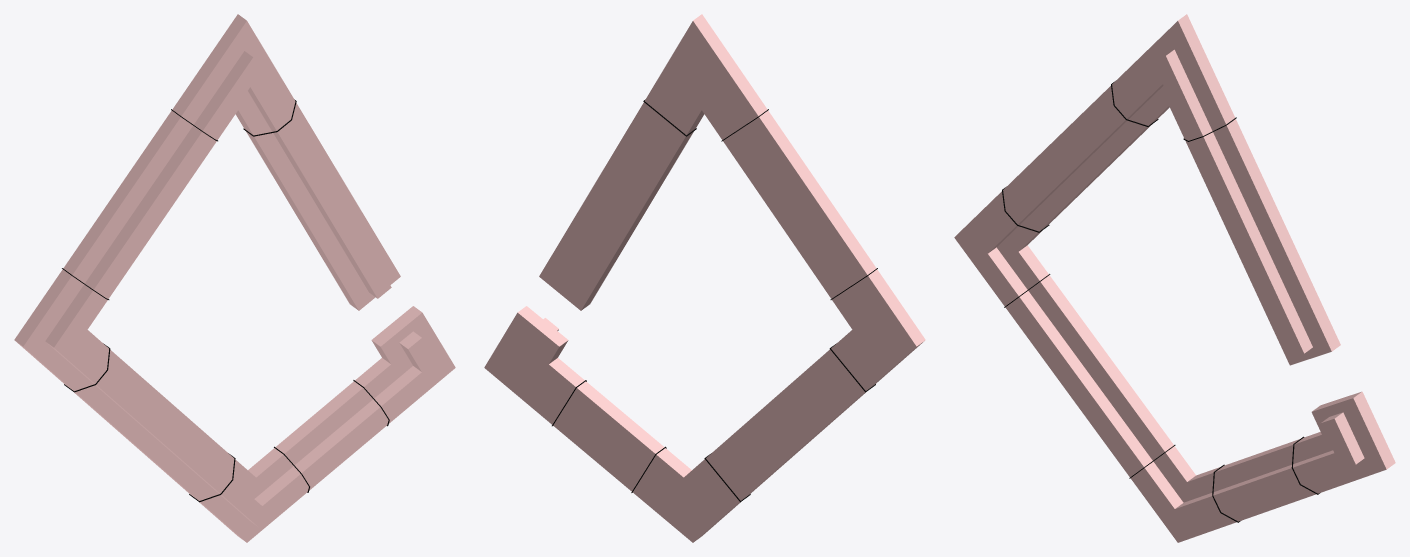
Rendered from 04-hedmanska.glb.
3 renders of one model, left to right at view 1: azimuth 30°, elevation 25°; view 2: azimuth 150°, elevation 25°; view 3: azimuth 330°, elevation 25°, orthographic.
Bounding box in the file's own units: 1222 × 1410 × 96.49.
